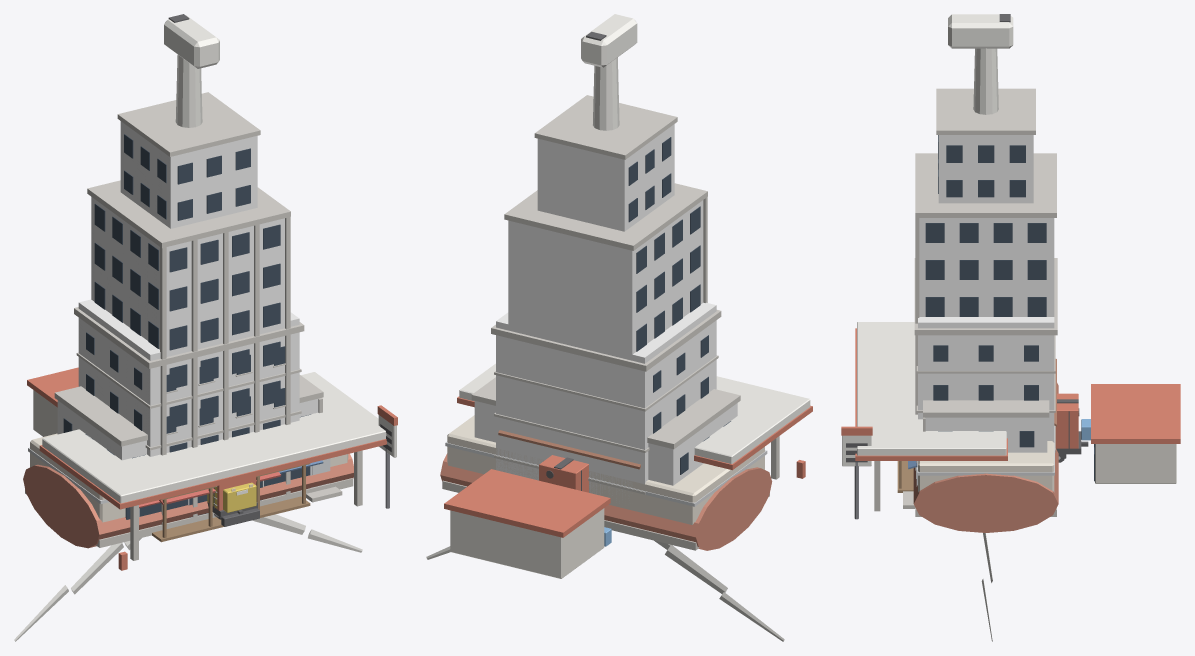
Rendered from models.glb.
3 views of the same model, side by side, from view 1: azimuth 30°, elevation 25°; view 2: azimuth 150°, elevation 25°; view 3: azimuth 270°, elevation 25° (orthographic). The views are drawn at different scales.
Visible parts, largest first — view 1: body.001, canopy, upper, roofArc, body, crown2, crown, cornice.001, fascia, nacelle, cornice, parapet (+16 smaller); view 2: body.001, body, upper, body.006, kiosk, kioskRoof, roofArc, canopy, crown2, crown, body.002, cornice.001 (+12 smaller); view 3: canopy, body.001, body, roofArc, kioskRoof, upper, crown, crown2, kiosk, body.006, body.002, cornice.001 (+10 smaller).
Part boxes in pixels (x1,y1,x2,y2): body.001: (91, 197, 284, 452); canopy: (42, 372, 386, 503); upper: (120, 121, 257, 228); roofArc: (23, 453, 353, 548); body: (78, 318, 299, 456); crown2: (117, 92, 260, 156); crown: (87, 180, 290, 247); cornice.001: (54, 375, 323, 446); fascia: (39, 439, 386, 509); nacelle: (164, 15, 219, 68); cornice: (74, 307, 304, 368); parapet: (78, 299, 299, 360); body.001: (508, 200, 703, 503); body: (496, 320, 716, 484); upper: (537, 124, 674, 231); body.006: (447, 415, 764, 524); kiosk: (450, 508, 604, 578); kioskRoof: (444, 469, 610, 537); roofArc: (440, 453, 772, 550); canopy: (459, 363, 810, 463); crown2: (534, 95, 677, 159); crown: (504, 183, 707, 250); body.002: (474, 401, 737, 485); cornice.001: (471, 377, 740, 449); canopy: (857, 322, 1006, 455); body.001: (919, 218, 1054, 316); body: (918, 335, 1054, 442); roofArc: (913, 383, 1058, 532); kioskRoof: (1091, 384, 1180, 443); upper: (938, 135, 1033, 203); crown: (915, 153, 1056, 217); crown2: (936, 88, 1035, 134); kiosk: (1095, 444, 1176, 483); body.006: (918, 441, 1054, 492); body.002: (925, 417, 1047, 452); cornice.001: (923, 400, 1049, 417).
Bounding box in the file's own units: 28.48 × 44.05 × 24.95.
